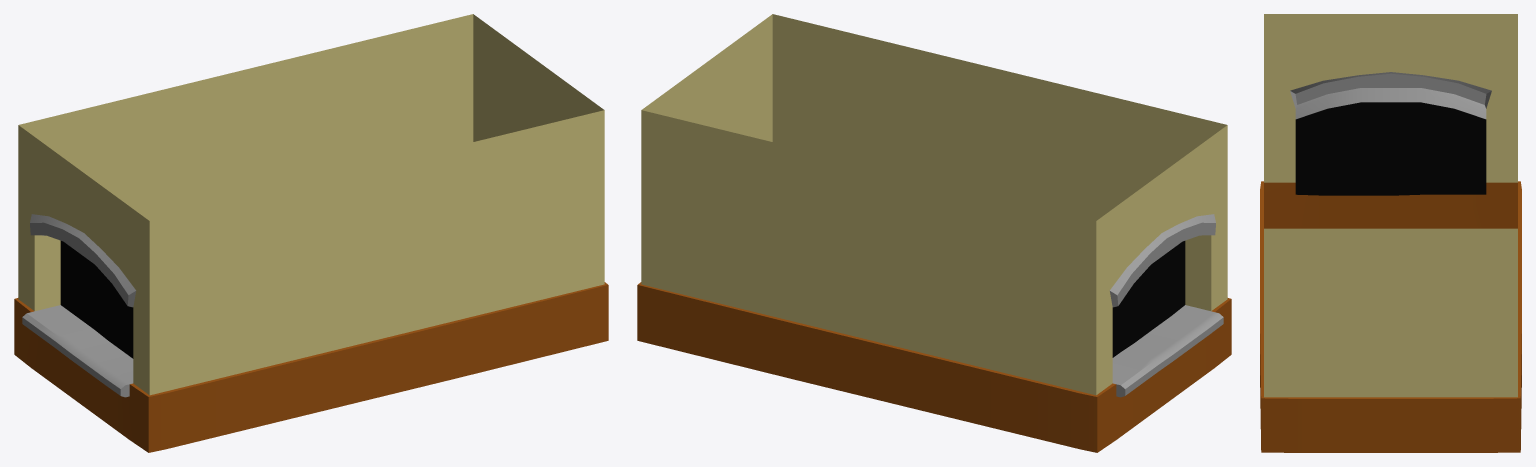
The model's file is Bottom.fbx.
3 renders of one model, left to right at view 1: azimuth 30°, elevation 25°; view 2: azimuth 150°, elevation 25°; view 3: azimuth 270°, elevation 25°, orthographic. The views are drawn at different scales.
Parts seen in each view (by area): view 1: TallHouse.024; view 2: TallHouse.024; view 3: TallHouse.024.
Boxes of the visible parts, x1,y1,x2,y2 form: TallHouse.024: (14, 14, 608, 452); TallHouse.024: (637, 14, 1231, 452); TallHouse.024: (1260, 14, 1521, 452).
Size of the model in its own units: 8.28 by 3.87 by 4.12.
